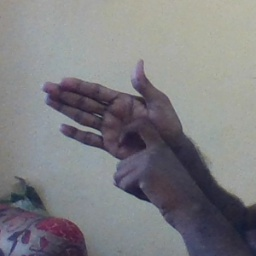R: (42, 59, 178, 195)
